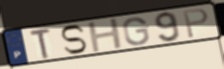9: (153, 11, 183, 44)
G: (121, 16, 151, 47)
H: (86, 17, 125, 54)
P: (182, 7, 210, 40)
S: (59, 24, 89, 55)
T: (28, 27, 53, 60)
